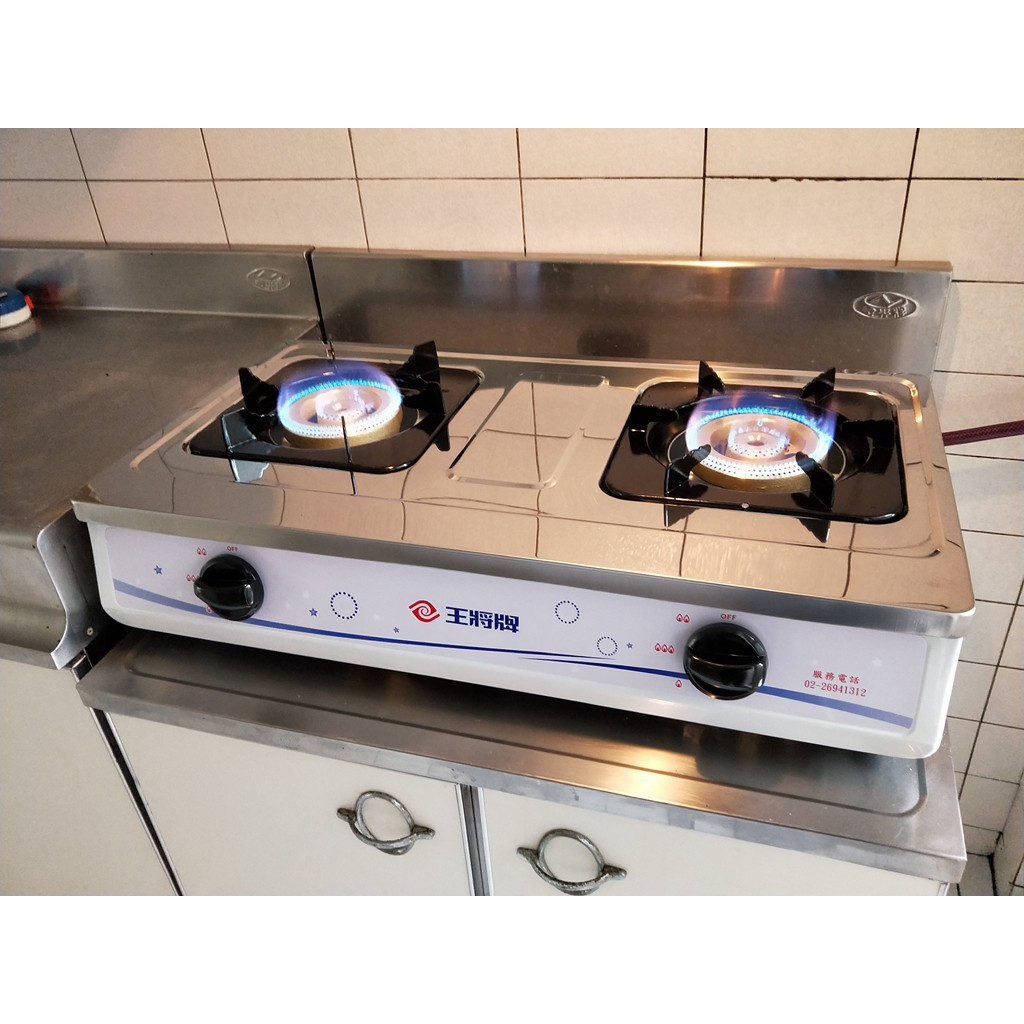gasoven: (70, 320, 971, 774)
